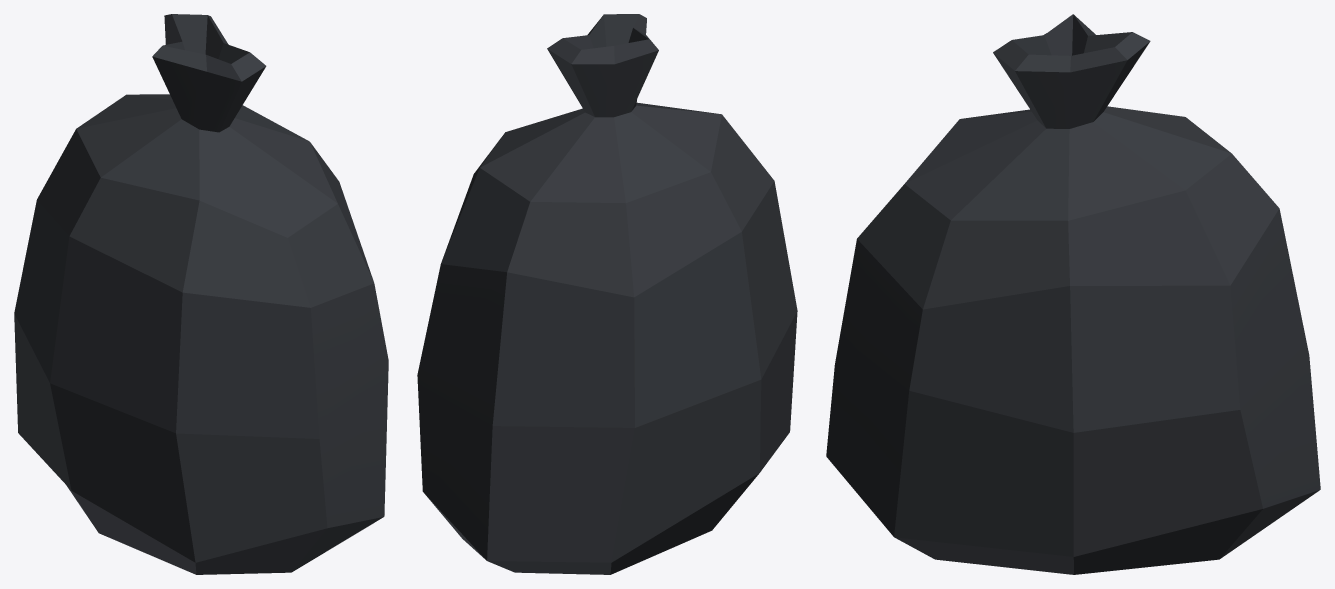
Rendered from SM_Prop_TrashBag_01_218.obj.
3 views of the same model, side by side, from view 1: azimuth 30°, elevation 25°; view 2: azimuth 150°, elevation 25°; view 3: azimuth 270°, elevation 25° (orthographic). The views are drawn at different scales.
Parts seen in each view (by area): view 1: SM_Prop_TrashBag_01_0; view 2: SM_Prop_TrashBag_01_0; view 3: SM_Prop_TrashBag_01_0.
Part boxes in pixels (left/top/right/bottom): SM_Prop_TrashBag_01_0: left=14, top=14, right=388, bottom=574; SM_Prop_TrashBag_01_0: left=417, top=14, right=797, bottom=574; SM_Prop_TrashBag_01_0: left=826, top=14, right=1320, bottom=574.
Bounding box in the file's own units: 0.6115 × 0.9047 × 0.8291.
1 material, 1 textured.
